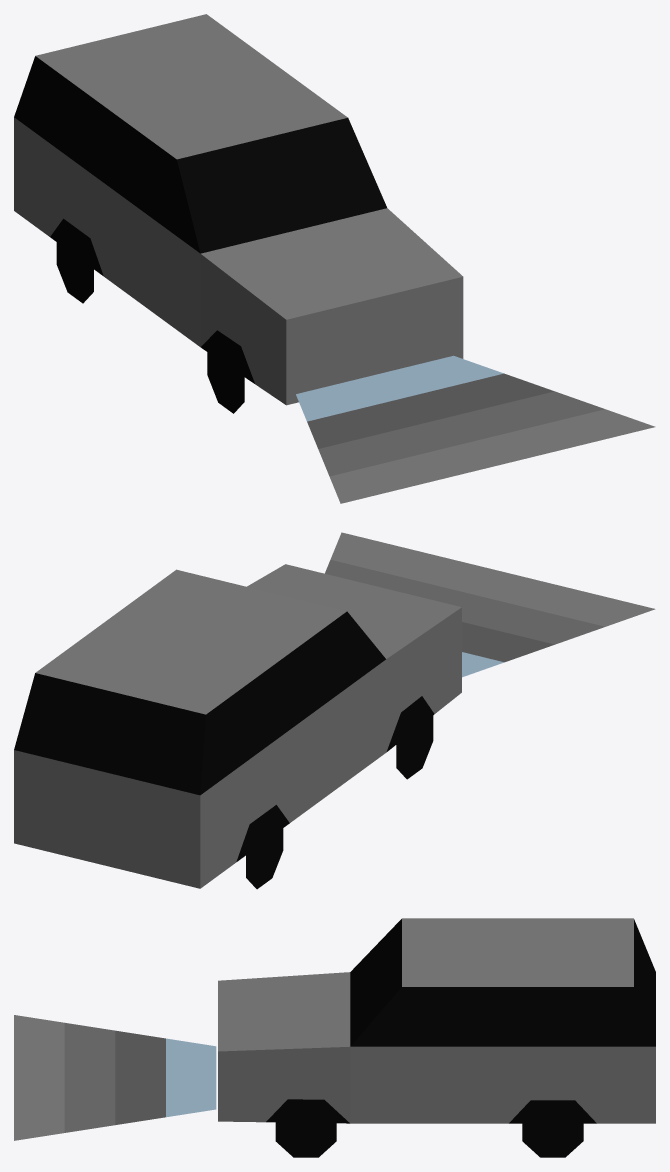
Rendered from AUTO5.glb.
3 renders of one model, top to bottom at view 1: azimuth 30°, elevation 25°; view 2: azimuth 150°, elevation 25°; view 3: azimuth 270°, elevation 25°, orthographic. The views are drawn at different scales.
Parts seen in each view (by area): view 1: AUTO5 | archived geometry; view 2: AUTO5 | archived geometry; view 3: AUTO5 | archived geometry.
Part boxes in pixels (x1,y1,x2,y2): AUTO5 | archived geometry: [14, 14, 655, 503]; AUTO5 | archived geometry: [14, 532, 655, 889]; AUTO5 | archived geometry: [14, 918, 655, 1157].
Bounding box in the file's own units: 3.33 × 2.05 × 7.16.
